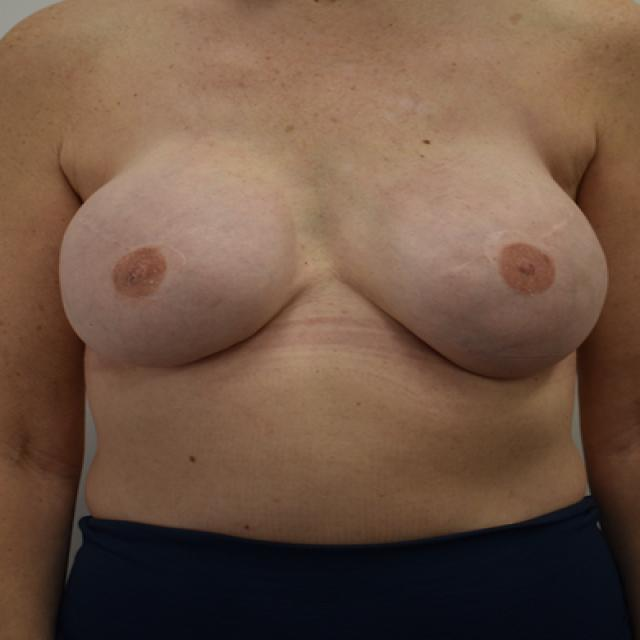Seno ileso: (328, 86, 622, 398), (46, 87, 320, 398)
